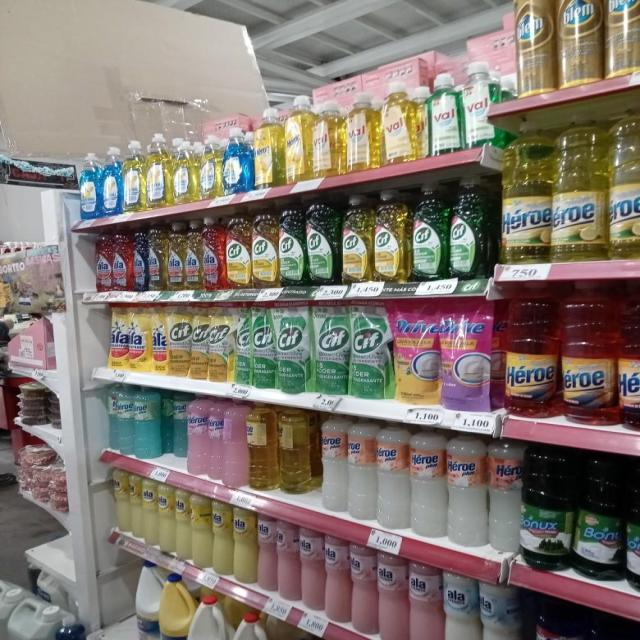ala_conc_amarillo: (148, 222, 166, 292), (185, 219, 202, 291), (168, 220, 185, 291)
ala_conc_azul: (133, 222, 148, 292)
ala_conc_rojo: (203, 216, 224, 291), (113, 223, 132, 292), (94, 225, 112, 292)
ala_crem_amarillo: (232, 506, 256, 584), (212, 500, 231, 577), (157, 482, 174, 556), (175, 488, 191, 562), (112, 470, 129, 536), (142, 478, 157, 548), (129, 475, 142, 540)
ala_crem_blanco: (443, 570, 479, 640)
ala_crem_rosado: (408, 560, 442, 640), (377, 551, 407, 640), (257, 514, 276, 593)
ala_sachet_amarillo: (107, 304, 129, 370), (129, 304, 150, 373), (150, 304, 168, 374)
cif_conc_bot_amarilla: (373, 189, 408, 284), (341, 194, 372, 284), (226, 210, 251, 290), (252, 209, 277, 288)
cif_conc_botella_verde: (449, 174, 489, 280), (411, 180, 446, 282), (306, 197, 338, 285), (278, 202, 305, 287)
cif_conc_sachet_amarillo: (556, 0, 602, 86), (604, 0, 640, 74), (208, 303, 232, 383), (168, 304, 190, 378), (191, 303, 208, 381)
cif_conc_sachet_verde: (350, 301, 390, 400), (313, 301, 348, 395), (276, 302, 311, 393), (252, 303, 274, 389), (234, 304, 252, 386)
drive: (394, 298, 439, 407)
heroe: (447, 431, 486, 548), (410, 424, 446, 540), (376, 421, 408, 532), (320, 412, 347, 514), (132, 384, 164, 460)
magistral_con_amarillo: (145, 134, 168, 209), (171, 136, 193, 205), (124, 140, 143, 212), (200, 135, 221, 200)
